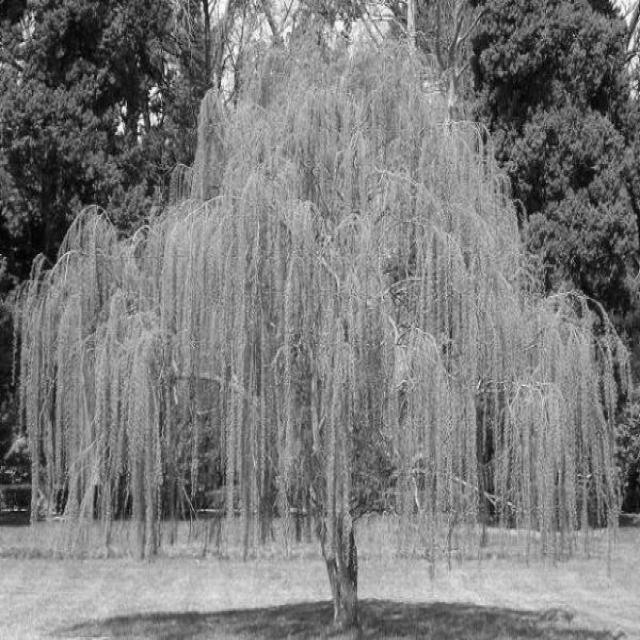cauce: (19, 14, 633, 626)
